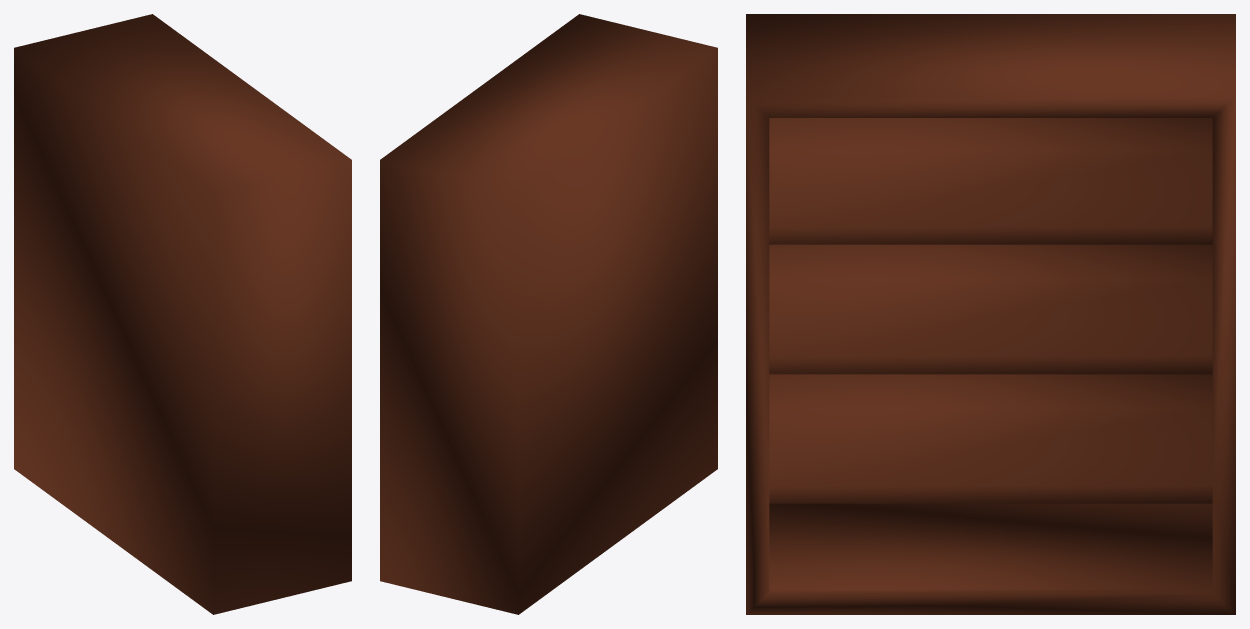
The model's file is MediumShelf.fbx.
3 views of the same model, side by side, from view 1: azimuth 30°, elevation 25°; view 2: azimuth 150°, elevation 25°; view 3: azimuth 270°, elevation 25° (orthographic). The views are drawn at different scales.
Visible parts, largest first — view 1: Cube.003; view 2: Cube.003; view 3: Cube.003.
Boxes of the visible parts, box(x1,y1,x2,y2) form: Cube.003: box(14, 14, 351, 614); Cube.003: box(380, 14, 717, 614); Cube.003: box(746, 14, 1235, 614).
Bounding box in the file's own units: 108 × 315 × 270.
